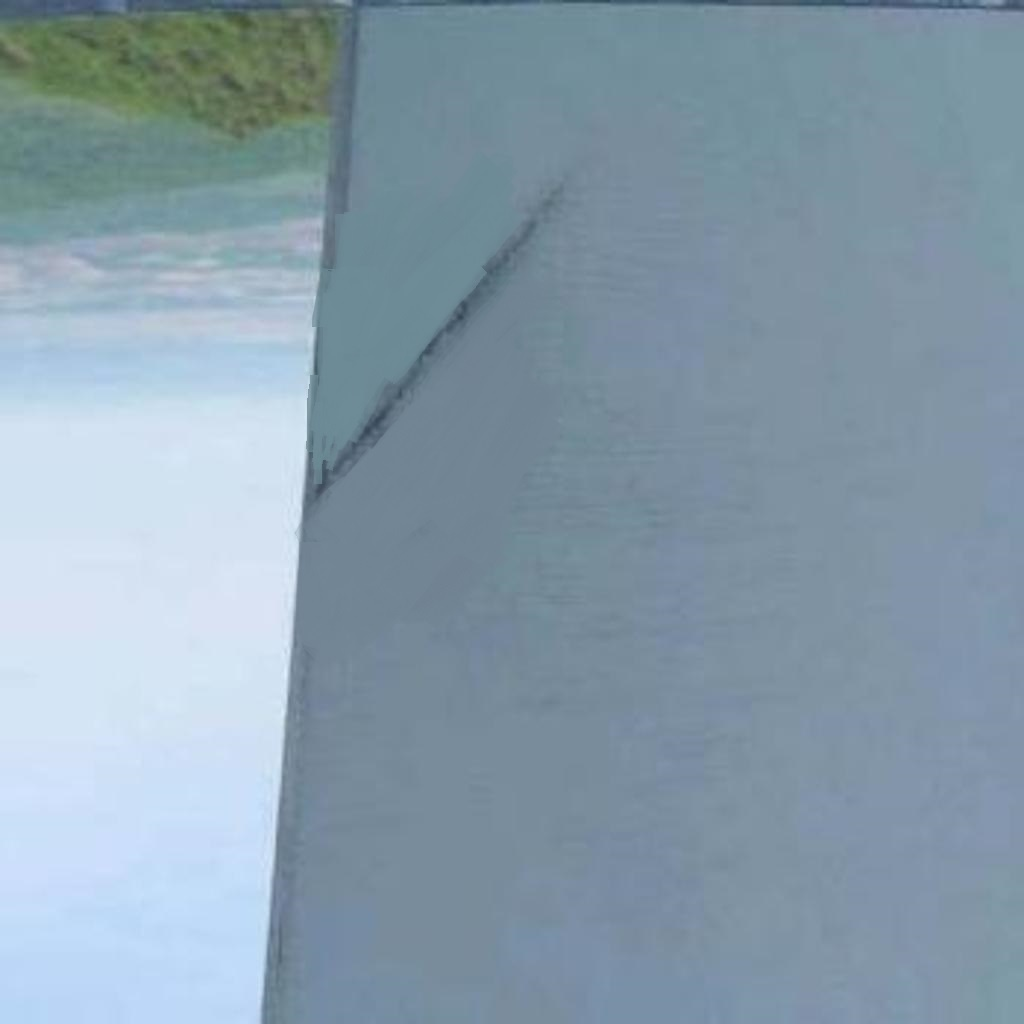hide_craze: (318, 197, 568, 481)
